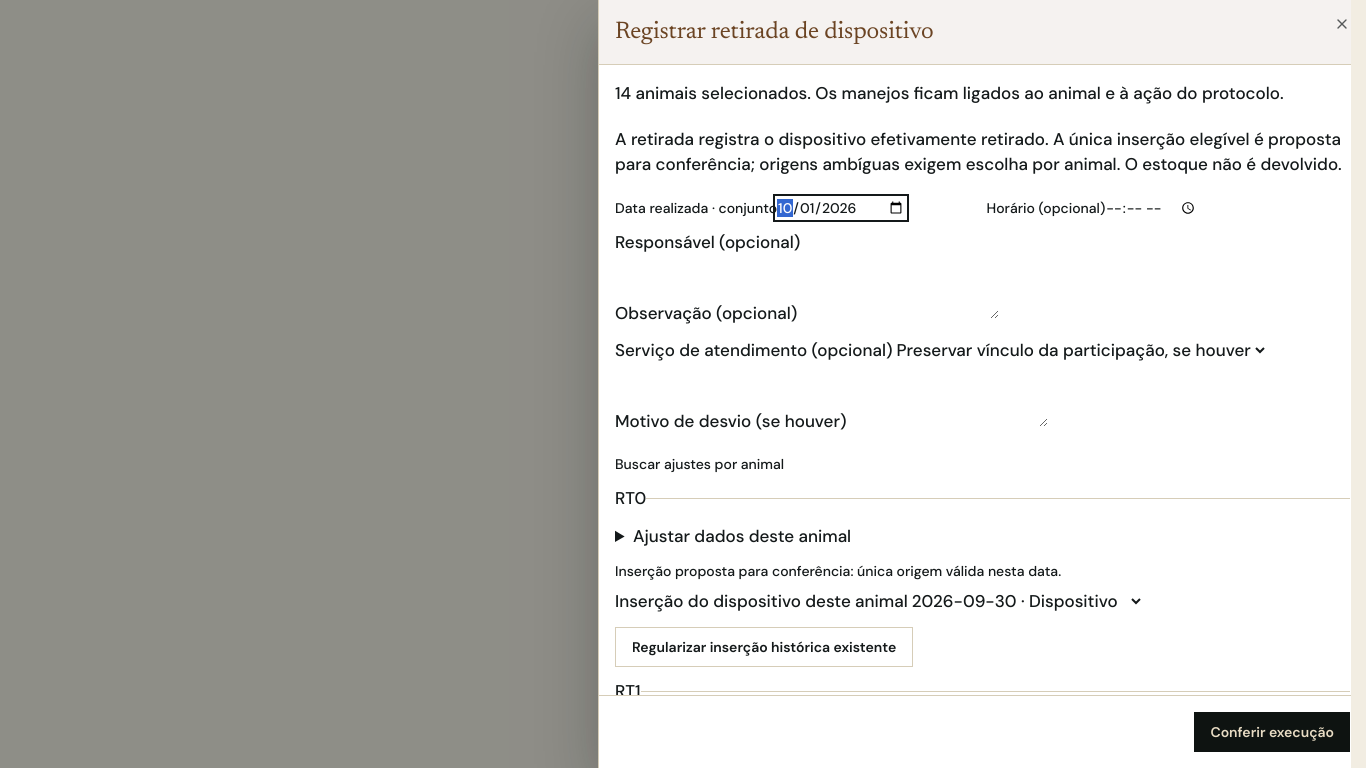
Test case: formulário real manejo/retirada › prepara inserções de 14 animais mesmo com somente dez visíveis
Click the button "Conferir execução": (1272, 732) [1194, 712, 1350, 752]
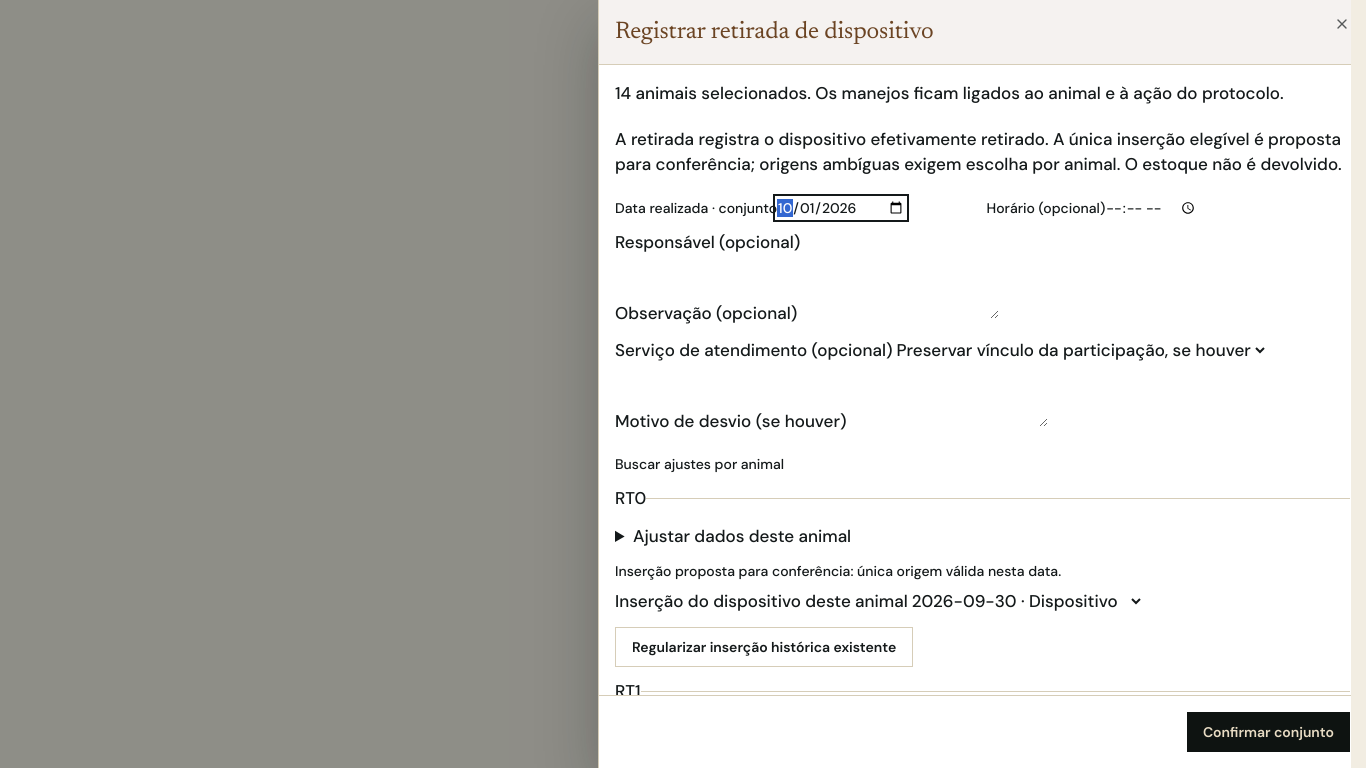
Result: the button "Confirmar conjunto" is shown at [1187, 712, 1350, 752]
